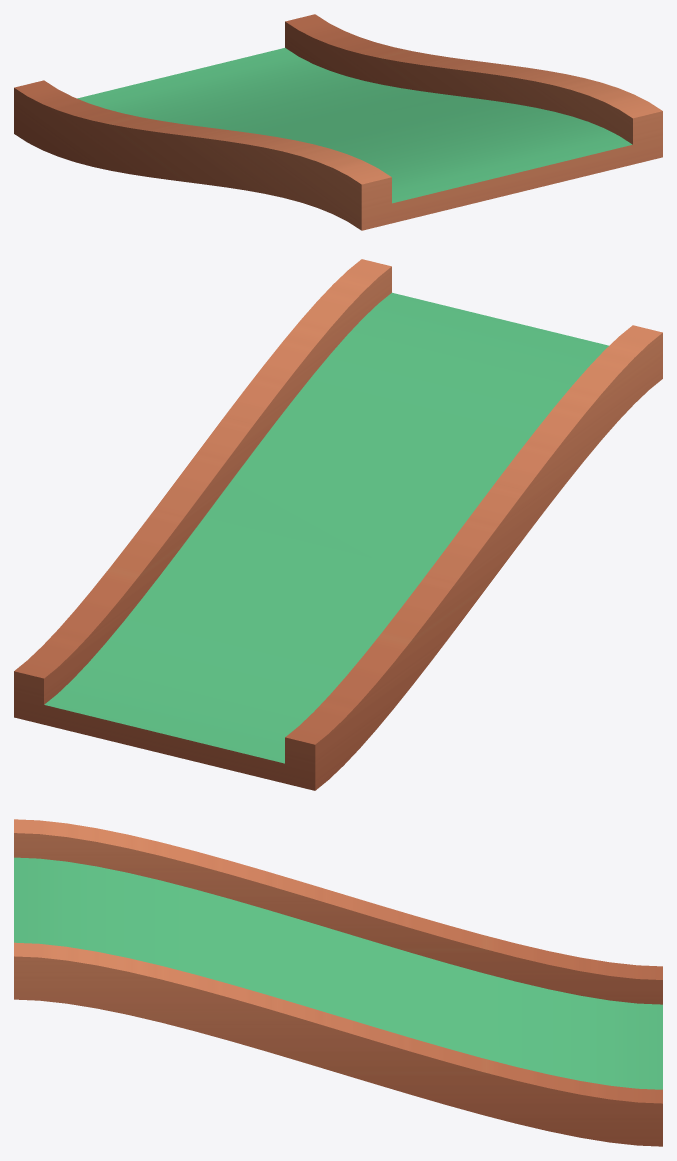
File: ramp-large.glb
3 views of the same model, one above another, from view 1: azimuth 30°, elevation 25°; view 2: azimuth 150°, elevation 25°; view 3: azimuth 270°, elevation 25° (orthographic). The views are drawn at different scales.
Parts seen in each view (by area): view 1: ramp-large; view 2: ramp-large; view 3: ramp-large.
Part boxes in pixels (x1,y1,x2,y2): ramp-large: (14, 14, 662, 230); ramp-large: (14, 259, 662, 790); ramp-large: (14, 819, 662, 1146).
Bounding box in the file's own units: 1 × 0.6467 × 2.
1 material, 1 textured.
